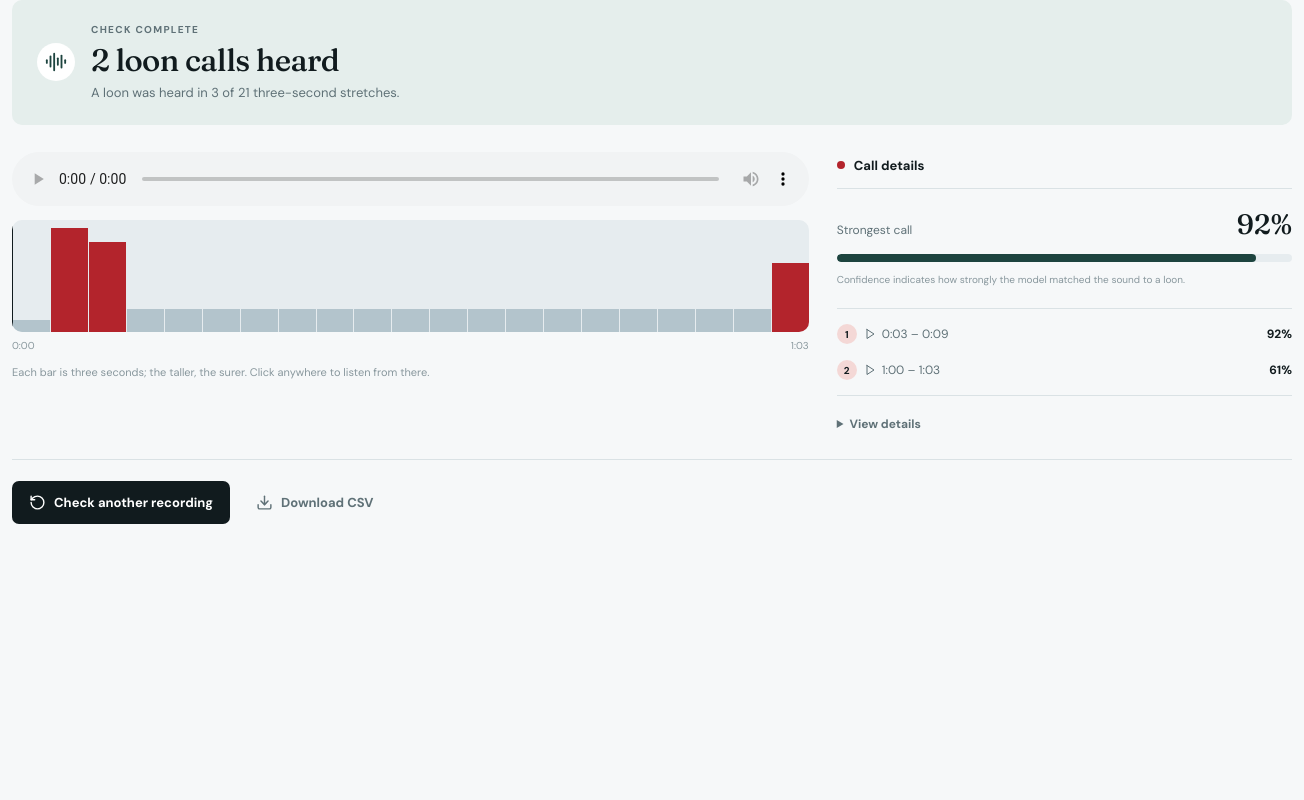
a recording with calls › describes the audio
The width and height of the screenshot is (1304, 800).
Click the heading "View details".
click(885, 424)  # box [849,416,921,432]
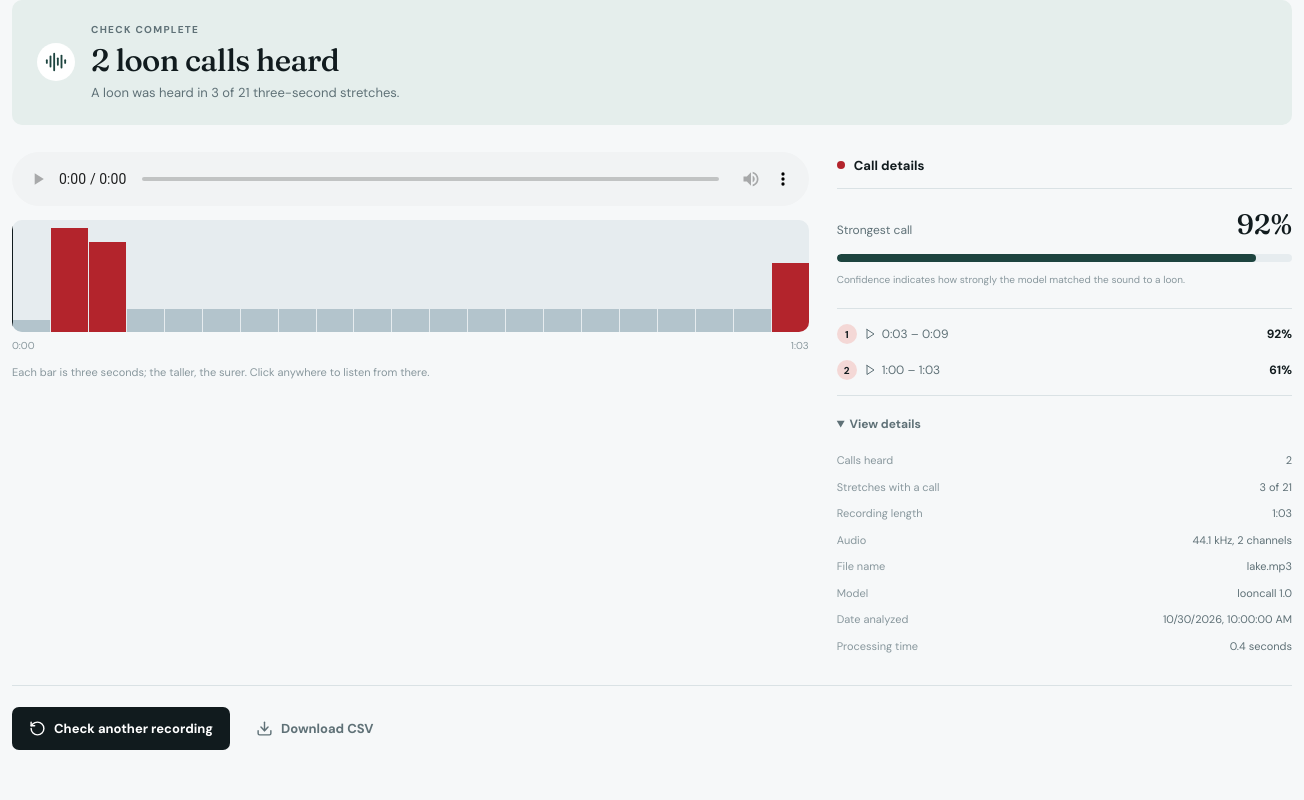
Result: the text "44.1 kHz, 2 channels" is shown at [1193,532,1292,548]
Result: the text "1:03" in the row of "Recording length" is shown at [1272,506,1292,520]
